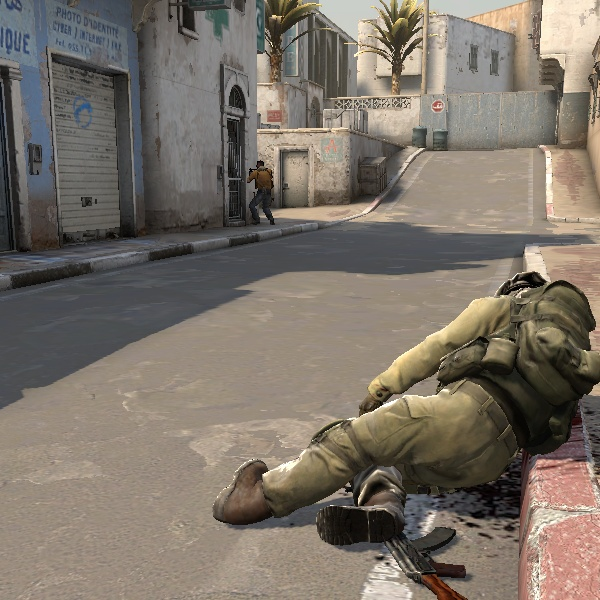t_body: (243, 155, 281, 226)
t_head: (252, 157, 269, 173)
